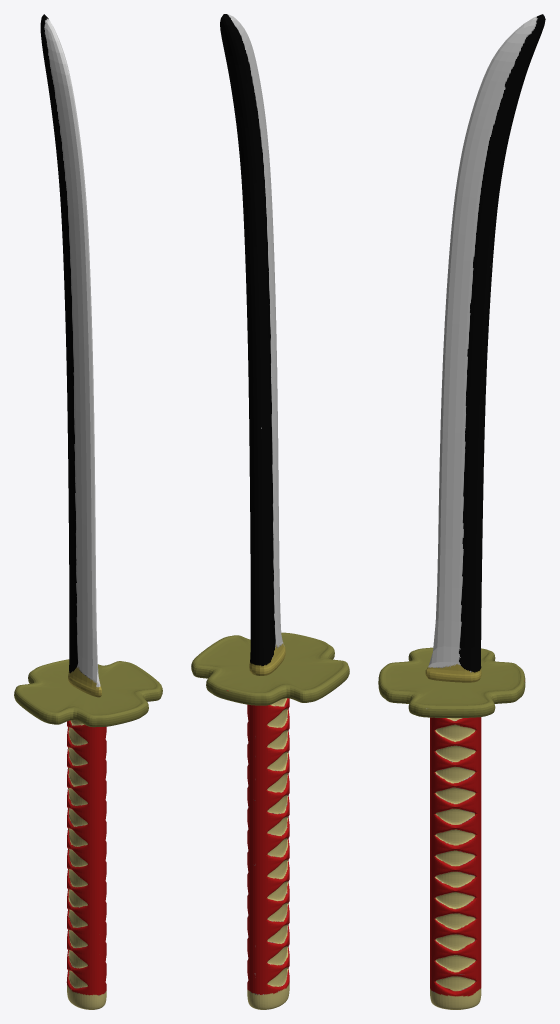
File: katanatousin.fbx
3 views of the same model, side by side, from view 1: azimuth 30°, elevation 25°; view 2: azimuth 150°, elevation 25°; view 3: azimuth 270°, elevation 25° (orthographic). The views are drawn at different scales.
Visible parts, largest first — view 1: 刀; view 2: 刀; view 3: 刀.
Part boxes in pixels (x1,y1,x2,y2): 刀: (14, 14, 162, 1009); 刀: (191, 14, 349, 1009); 刀: (378, 14, 545, 1009).
Size of the model in its own units: 53.11 by 397 by 60.61.
Materials: 1 (1 with a texture image).
